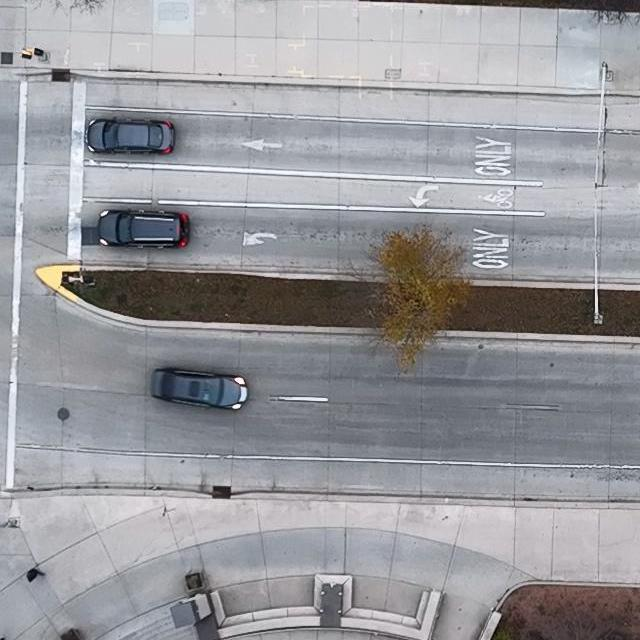car: (151, 368, 249, 412), (97, 208, 190, 248), (85, 117, 175, 154)
